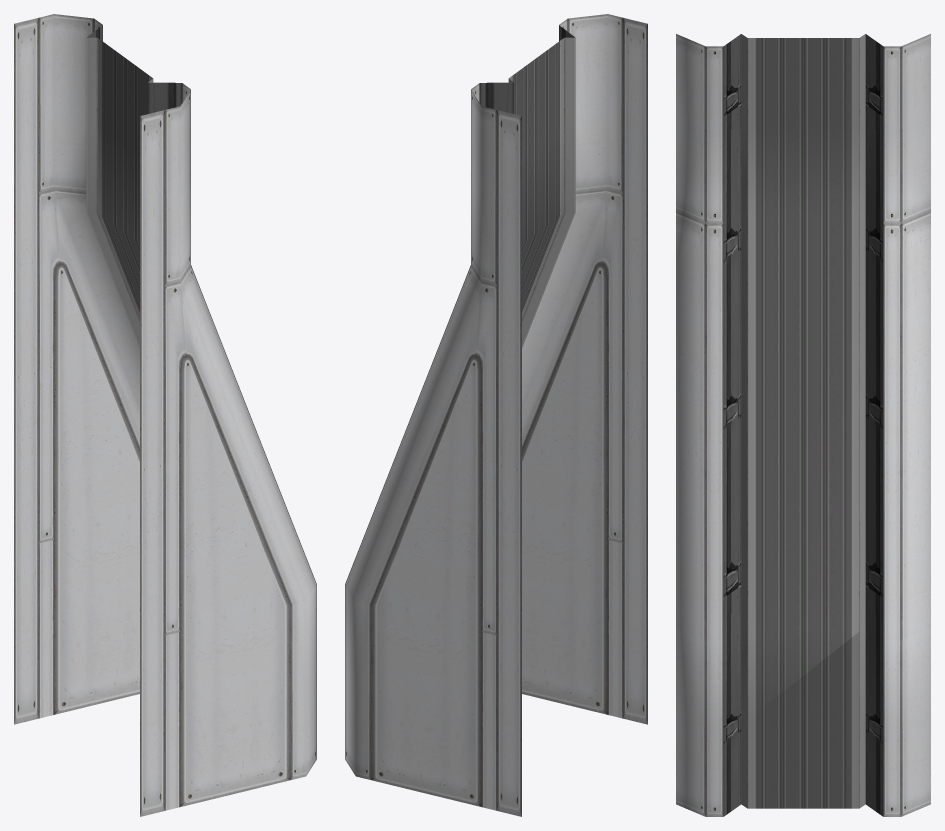
Rendered from CeilingBrace_AngleD.FBX.
3 renders of one model, left to right at view 1: azimuth 30°, elevation 25°; view 2: azimuth 150°, elevation 25°; view 3: azimuth 270°, elevation 25°, orthographic.
Parts seen in each view (by area): view 1: CeilingBrace_AngleD; view 2: CeilingBrace_AngleD; view 3: CeilingBrace_AngleD.
Part boxes in pixels (x1,y1,x2,y2): CeilingBrace_AngleD: (14,14,316,816); CeilingBrace_AngleD: (345,14,647,816); CeilingBrace_AngleD: (676,34,930,816).
Size of the model in its own units: 1.14 by 4 by 1.3.
